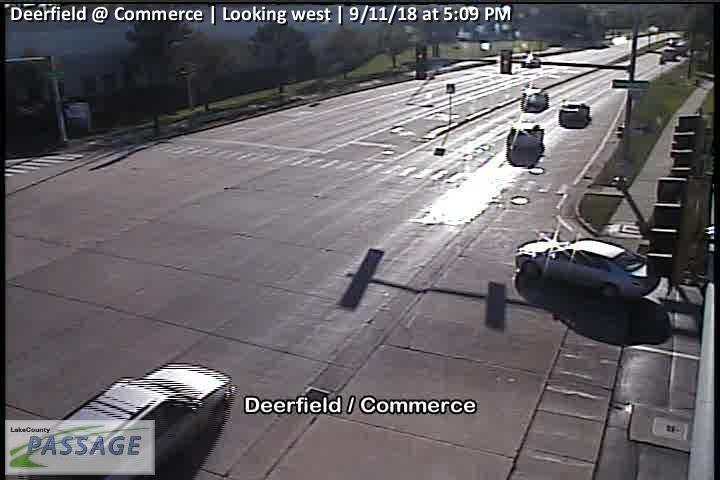SUV: (31, 362, 232, 480)
Sedan: (505, 123, 544, 159), (558, 102, 589, 125), (521, 88, 548, 110), (661, 48, 679, 61)
